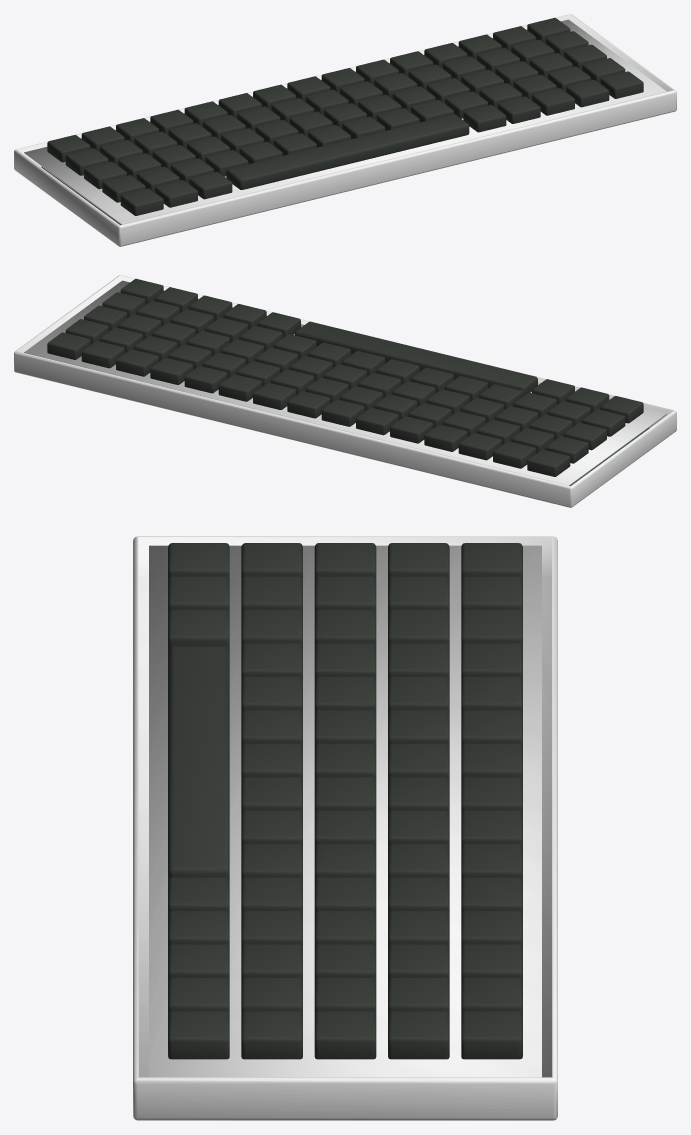
Rendered from intact.glb.
3 views of the same model, one above another, from view 1: azimuth 30°, elevation 25°; view 2: azimuth 150°, elevation 25°; view 3: azimuth 270°, elevation 25° (orthographic). The views are drawn at different scales.
Parts seen in each view (by area): view 1: keyboard-component-000-black, keyboard-component-001-black, keyboard-component-071-keys, keyboard-component-063-keys, keyboard-component-066-keys, keyboard-component-065-keys, keyboard-component-070-keys, keyboard-component-067-keys, keyboard-component-069-keys, keyboard-component-064-keys, keyboard-component-068-keys, keyboard-component-048-keys (+59 smaller); view 2: keyboard-component-000-black, keyboard-component-001-black, keyboard-component-071-keys, keyboard-component-003-keys, keyboard-component-010-keys, keyboard-component-005-keys, keyboard-component-006-keys, keyboard-component-007-keys, keyboard-component-009-keys, keyboard-component-012-keys, keyboard-component-013-keys, keyboard-component-017-keys (+59 smaller); view 3: keyboard-component-001-black, keyboard-component-000-black, keyboard-component-071-keys, keyboard-component-047-keys, keyboard-component-017-keys, keyboard-component-070-keys, keyboard-component-032-keys, keyboard-component-062-keys, keyboard-component-065-keys, keyboard-component-037-keys, keyboard-component-046-keys, keyboard-component-007-keys (+59 smaller).
Boxes of the visible parts, x1=… form: keyboard-component-000-black: x1=14, y1=14, x2=676, y2=246; keyboard-component-001-black: x1=24, y1=19, x2=666, y2=224; keyboard-component-071-keys: x1=226, y1=114, x2=469, y2=189; keyboard-component-063-keys: x1=120, y1=188, x2=163, y2=215; keyboard-component-066-keys: x1=463, y1=105, x2=506, y2=132; keyboard-component-065-keys: x1=189, y1=171, x2=232, y2=199; keyboard-component-070-keys: x1=600, y1=71, x2=643, y2=98; keyboard-component-067-keys: x1=497, y1=96, x2=540, y2=123; keyboard-component-069-keys: x1=566, y1=80, x2=609, y2=107; keyboard-component-064-keys: x1=155, y1=180, x2=197, y2=207; keyboard-component-068-keys: x1=532, y1=88, x2=574, y2=115; keyboard-component-048-keys: x1=102, y1=175, x2=145, y2=202; keyboard-component-000-black: x1=14, y1=275, x2=676, y2=507; keyboard-component-001-black: x1=24, y1=280, x2=666, y2=485; keyboard-component-071-keys: x1=295, y1=321, x2=537, y2=396; keyboard-component-003-keys: x1=527, y1=449, x2=570, y2=476; keyboard-component-010-keys: x1=287, y1=391, x2=330, y2=418; keyboard-component-005-keys: x1=458, y1=432, x2=501, y2=460; keyboard-component-006-keys: x1=424, y1=424, x2=467, y2=451; keyboard-component-007-keys: x1=390, y1=416, x2=433, y2=443; keyboard-component-009-keys: x1=321, y1=399, x2=364, y2=426; keyboard-component-012-keys: x1=218, y1=374, x2=261, y2=401; keyboard-component-013-keys: x1=184, y1=366, x2=227, y2=393; keyboard-component-017-keys: x1=47, y1=332, x2=90, y2=359; keyboard-component-001-black: x1=149, y1=545, x2=541, y2=1077; keyboard-component-000-black: x1=133, y1=536, x2=557, y2=1120; keyboard-component-071-keys: x1=168, y1=646, x2=229, y2=881; keyboard-component-047-keys: x1=314, y1=1011, x2=376, y2=1059; keyboard-component-017-keys: x1=461, y1=1011, x2=522, y2=1059; keyboard-component-070-keys: x1=168, y1=1011, x2=229, y2=1059; keyboard-component-032-keys: x1=388, y1=1011, x2=449, y2=1059; keyboard-component-062-keys: x1=241, y1=1011, x2=302, y2=1059; keyboard-component-065-keys: x1=168, y1=610, x2=229, y2=651; keyboard-component-037-keys: x1=314, y1=676, x2=376, y2=713; keyboard-component-046-keys: x1=314, y1=977, x2=376, y2=1014; keyboard-component-007-keys: x1=461, y1=676, x2=522, y2=713.
Size of the model in its own units: 0.44 by 0.0225 by 0.145.
3 materials, 3 textured.
